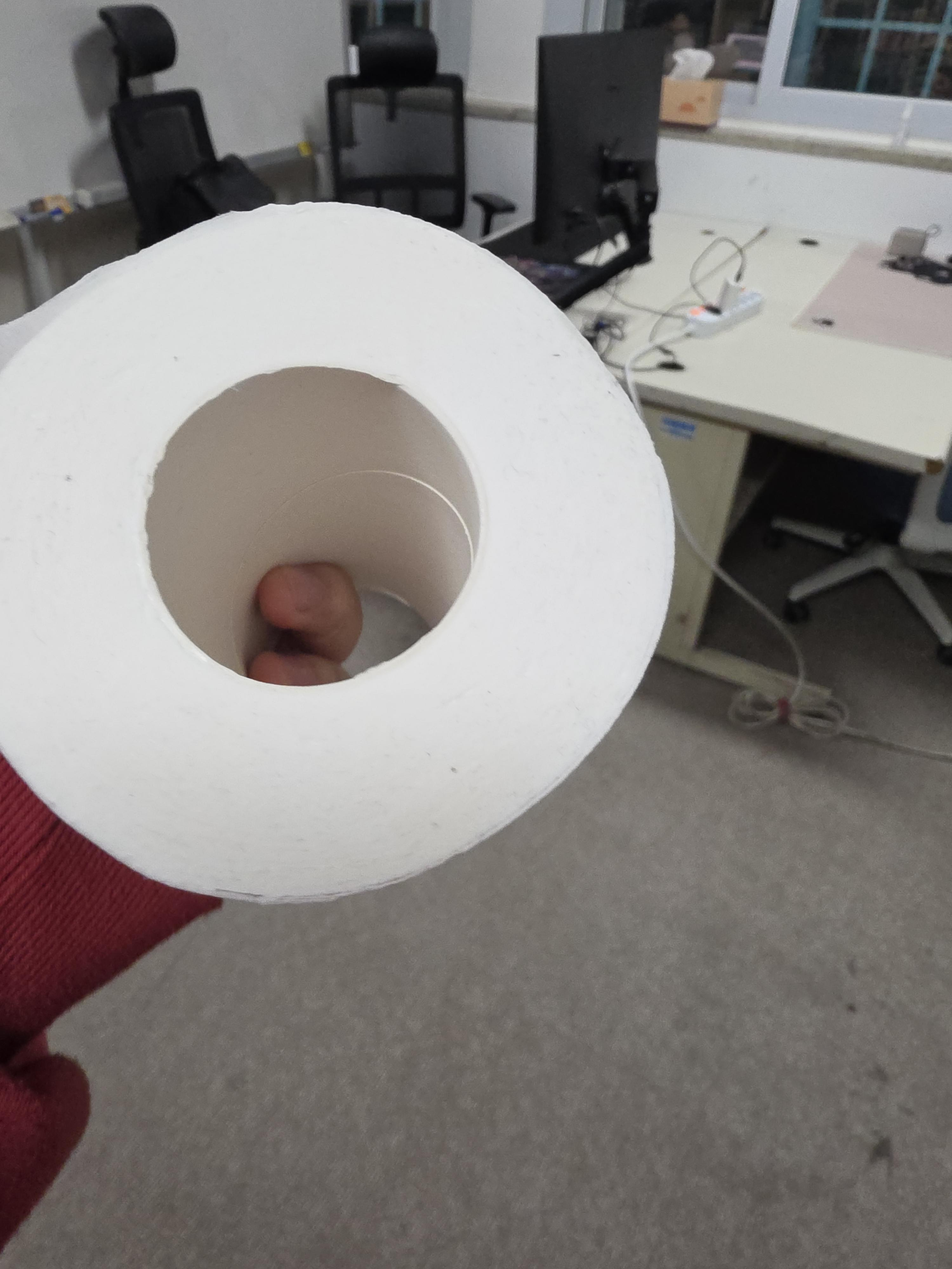tissue: (0, 201, 676, 905), (660, 48, 724, 126)
